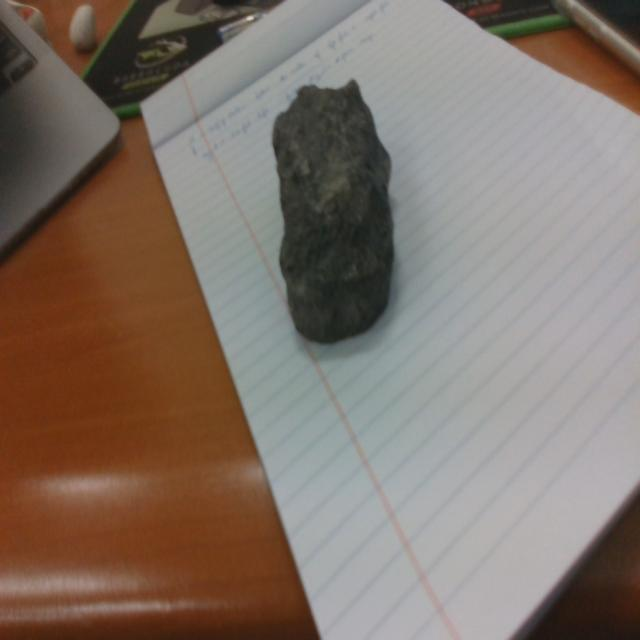stone: (272, 78, 395, 345)
